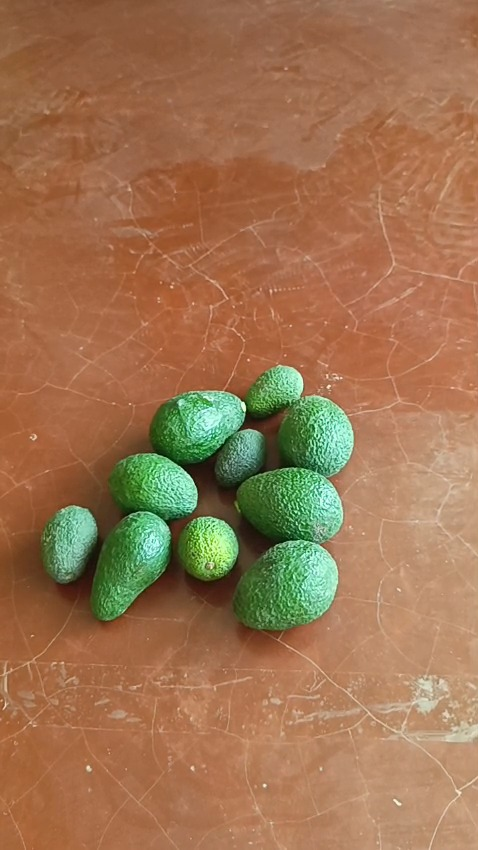Primera: (232, 539, 339, 629), (235, 467, 341, 542), (149, 389, 246, 463), (276, 395, 354, 475)
Segunda: (90, 511, 173, 620), (106, 452, 197, 521)
Tercera: (40, 504, 99, 585), (175, 514, 240, 581), (244, 364, 303, 418), (214, 428, 266, 488)
